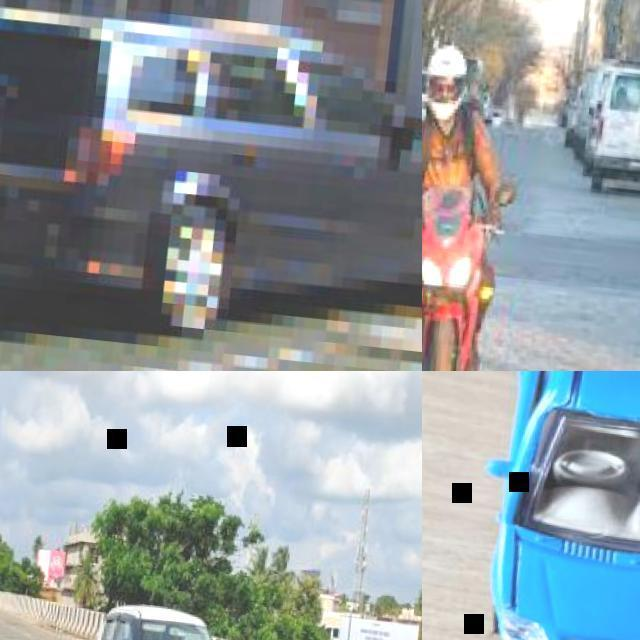car: (2, 9, 438, 339), (502, 362, 640, 640), (557, 57, 639, 196), (97, 604, 230, 639)
